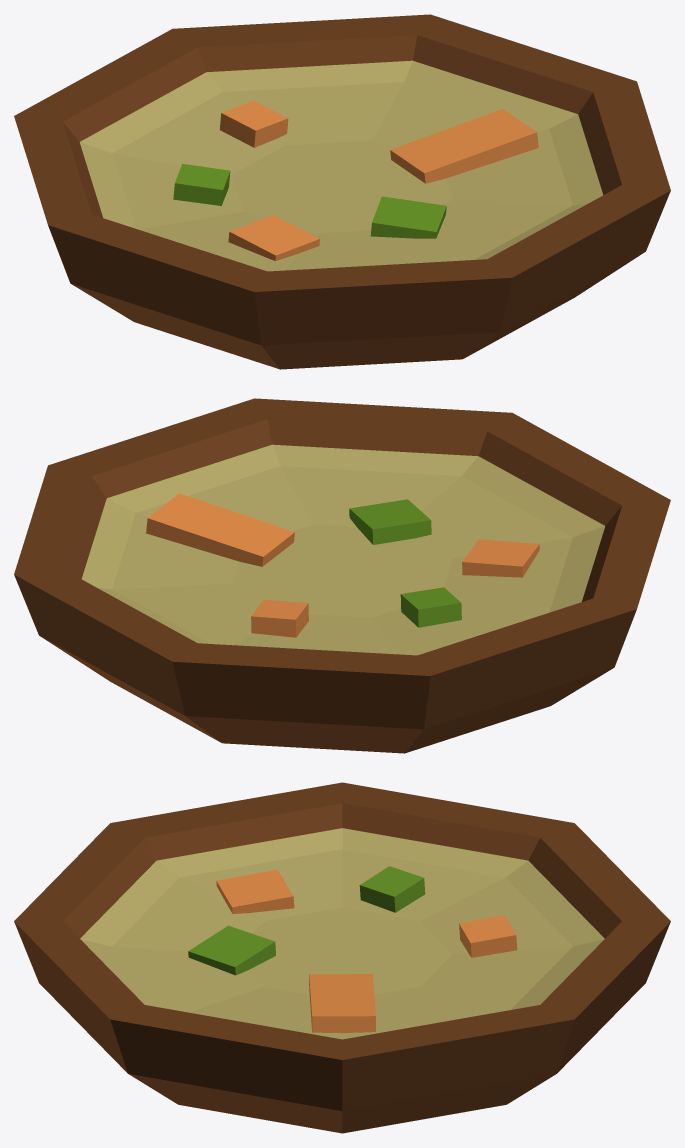
Rendered from BowlFull.fbx.
3 views of the same model, one above another, from view 1: azimuth 30°, elevation 25°; view 2: azimuth 150°, elevation 25°; view 3: azimuth 270°, elevation 25° (orthographic). The views are drawn at different scales.
Parts seen in each view (by area): view 1: Bowl, Soup, Carrot, Broculi; view 2: Bowl, Soup, Carrot, Broculi; view 3: Bowl, Soup, Carrot, Broculi.
Part boxes in pixels (x1,y1,x2,y2): Bowl: (14, 14, 670, 369); Soup: (79, 60, 603, 271); Carrot: (219, 100, 538, 261); Broculi: (173, 163, 446, 238); Bowl: (14, 398, 670, 753); Soup: (81, 444, 605, 655); Carrot: (146, 493, 539, 637); Broculi: (349, 499, 461, 627); Bowl: (14, 782, 670, 1133); Soup: (80, 828, 604, 1039); Carrot: (216, 869, 517, 1033); Broculi: (188, 866, 425, 975).
Bounding box in the file's own units: 40.28 × 9.7 × 40.28.
